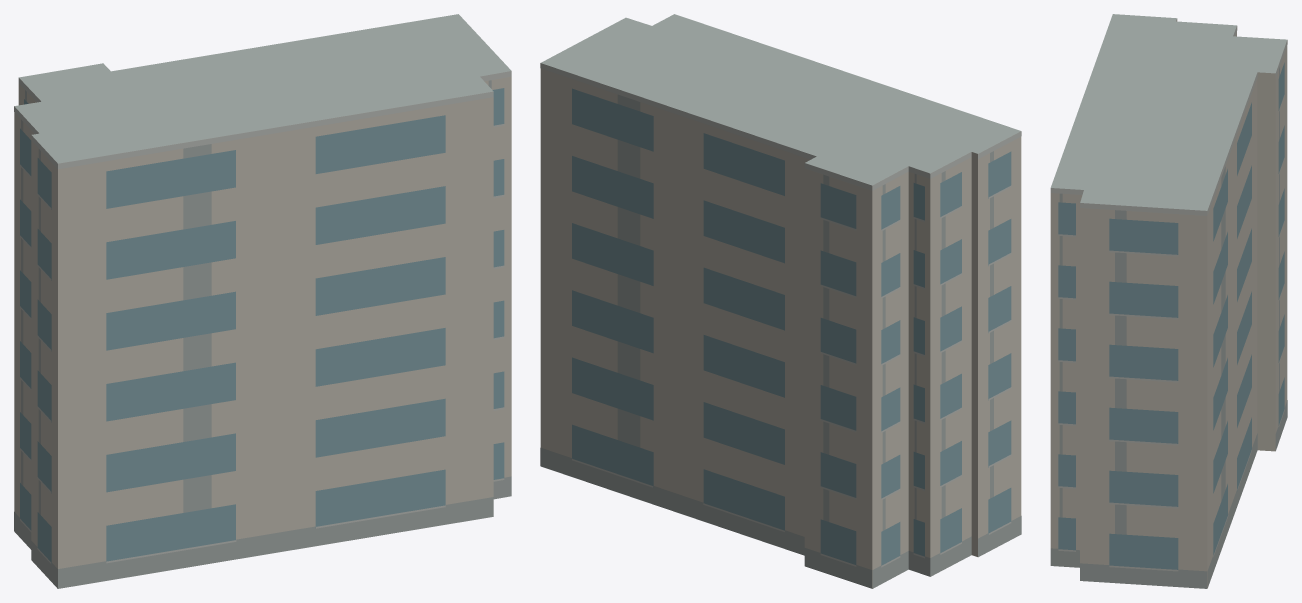
Rendered from survey-upis-32983621.glb.
The picture shows the model from 3 angles, left to right: view 1: azimuth 30°, elevation 25°; view 2: azimuth 150°, elevation 25°; view 3: azimuth 270°, elevation 25°; orthographic projection. The views are drawn at different scales.
Parts seen in each view (by area): view 1: survey-upis-32983621.tmp; view 2: survey-upis-32983621.tmp; view 3: survey-upis-32983621.tmp.
Boxes of the visible parts, left/top/right/bottom form: survey-upis-32983621.tmp: left=14, top=14, right=511, bottom=588; survey-upis-32983621.tmp: left=540, top=14, right=1021, bottom=588; survey-upis-32983621.tmp: left=1050, top=14, right=1287, bottom=588.
Size of the model in its own units: 20.45 by 18.3 by 10.4.
